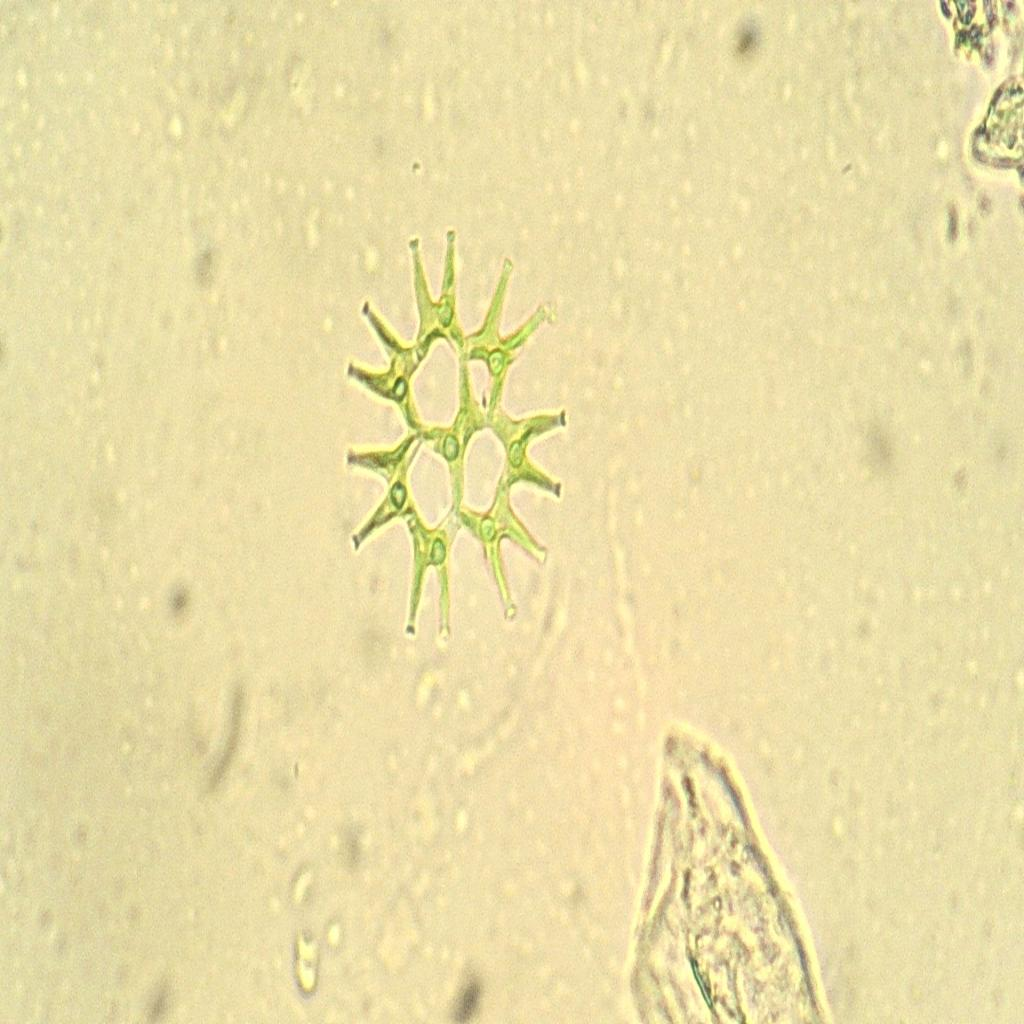Pediastrum_75T: (328, 203, 586, 693)
